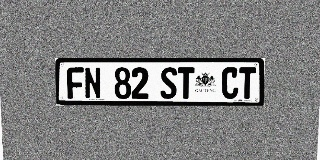2: (131, 67, 148, 99)
8: (114, 67, 131, 99)
C: (221, 67, 239, 99)
F: (67, 67, 84, 99)
N: (84, 67, 101, 99)
S: (160, 67, 177, 99)
T: (239, 67, 256, 99), (178, 67, 194, 99)
